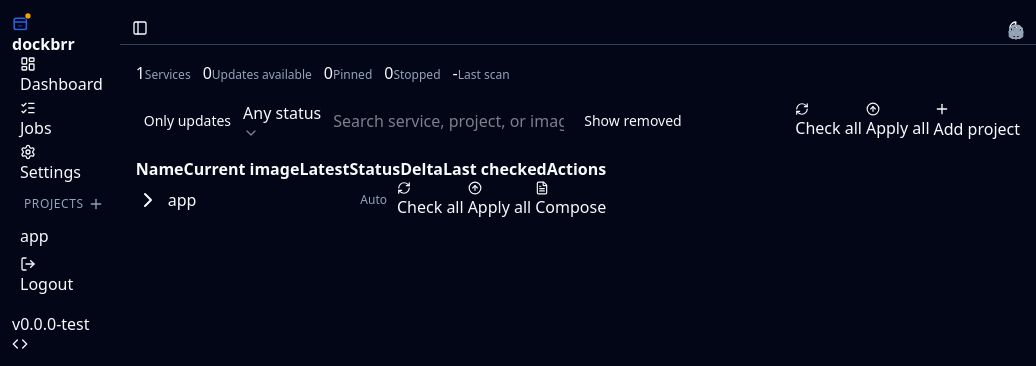
it: lists services and toggles a project group
Expected: the text "web" is not shown
What coordinates should you click on to do the following:
click the button "app"
I would click on:
 (166, 200)
Its box is [136,188,196,212].
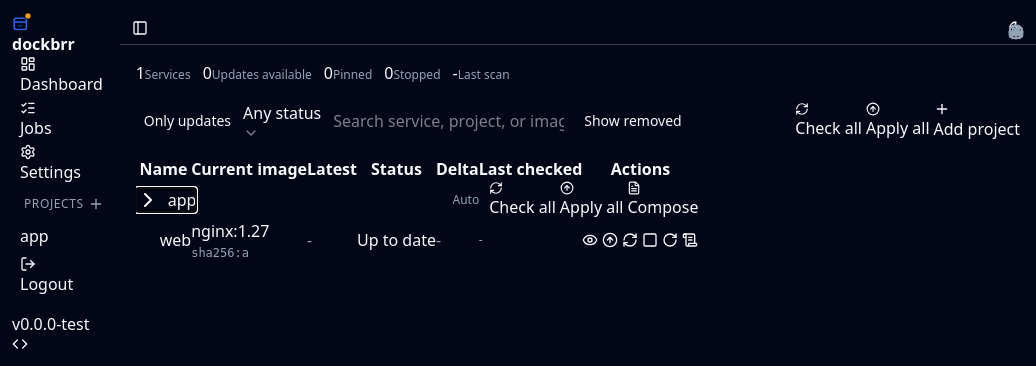
Now the link "web" is shown, box [160,228,191,252]
What coordinates should you click on to do the following:
click the button "app"
I would click on:
 (166, 200)
Its box is [136,188,196,212].
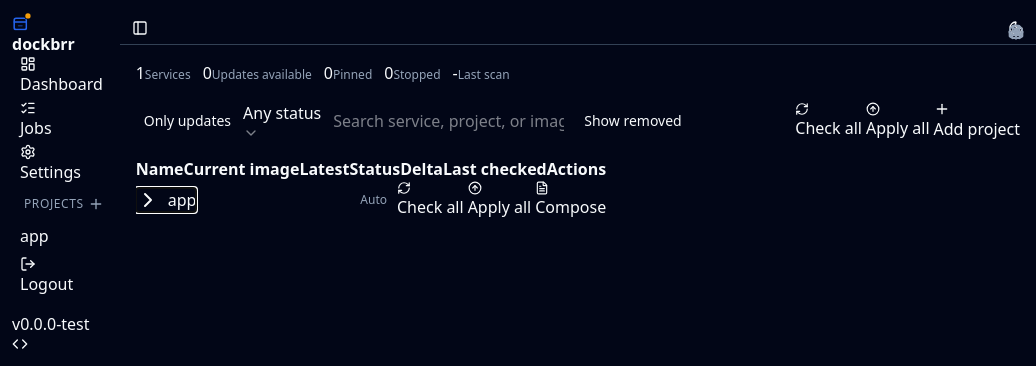
Now the link "web" is gone
